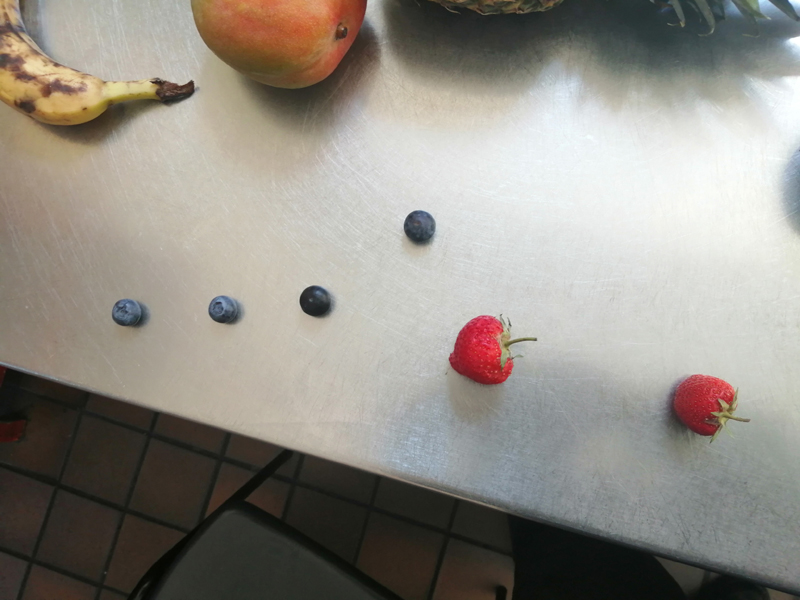blueberry: (387, 200, 447, 248), (297, 275, 334, 324), (198, 296, 248, 326), (107, 294, 142, 330)
strawberry: (660, 351, 755, 451), (446, 305, 537, 398)
